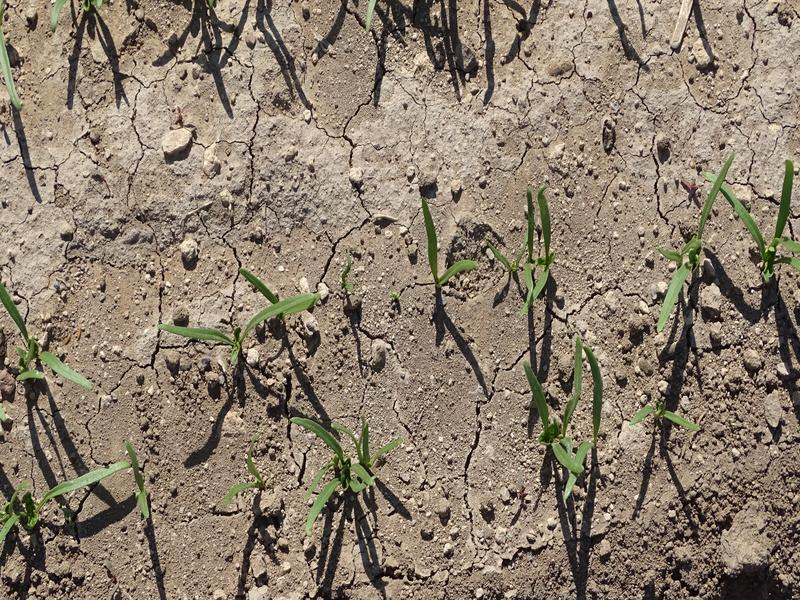Espinaca: (658, 147, 800, 341), (1, 439, 147, 546), (425, 189, 555, 306), (279, 408, 393, 528), (517, 345, 608, 494), (158, 279, 322, 354), (1, 289, 104, 391), (221, 451, 268, 507), (633, 404, 701, 439)
